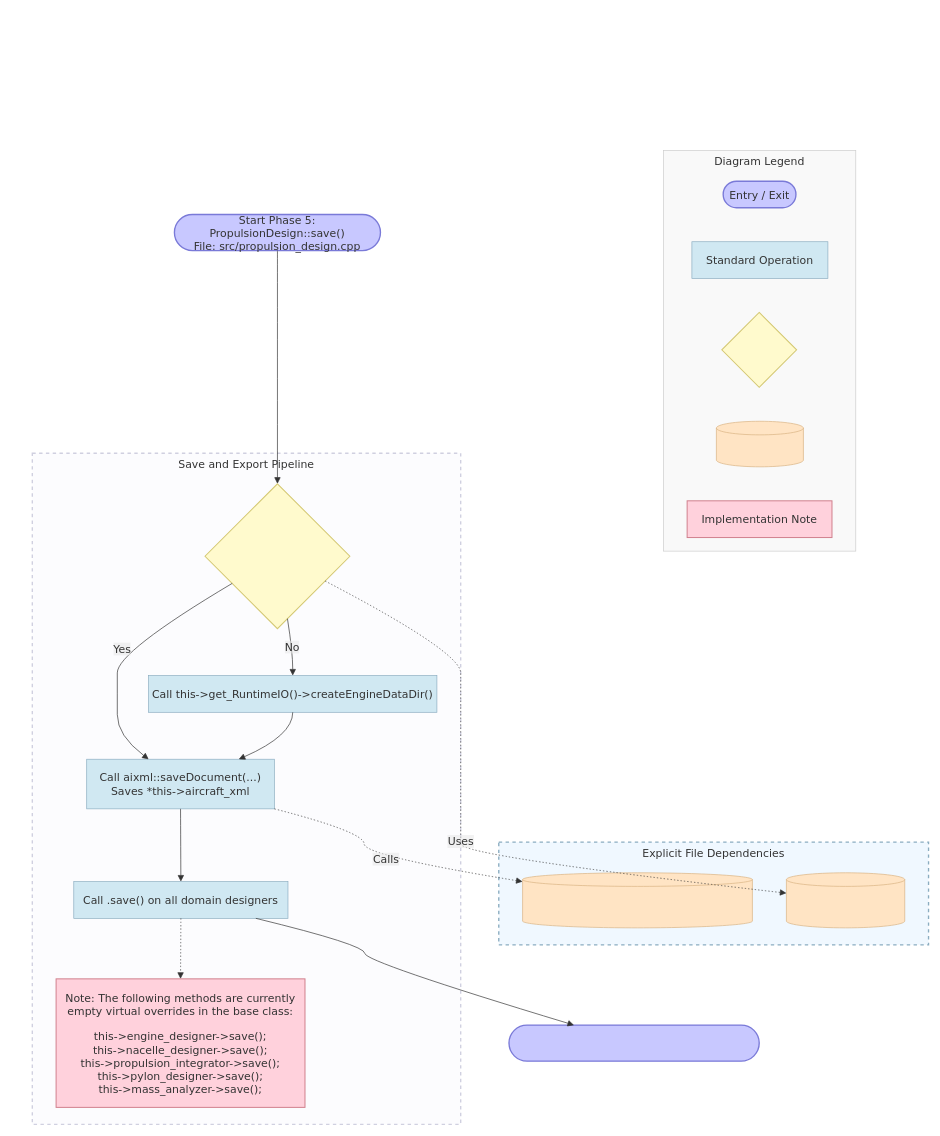
This 940x1136 diagram has some shape labels left out. Each missing label, with the centre of its shape:
"aixml::saveDocument External Method outside of Propulsion Design" belongs at point (637, 900).
"C++ Standard Library std::filesystem::exists" belongs at point (845, 900).
"Data / Libraries" belongs at point (759, 444).
"Decision" belongs at point (759, 349).
"Does engine data directory exist?" belongs at point (277, 556).
"End Phase 5: PropulsionDesign::save() Complete Module Execution Finished" belongs at point (634, 1042).
